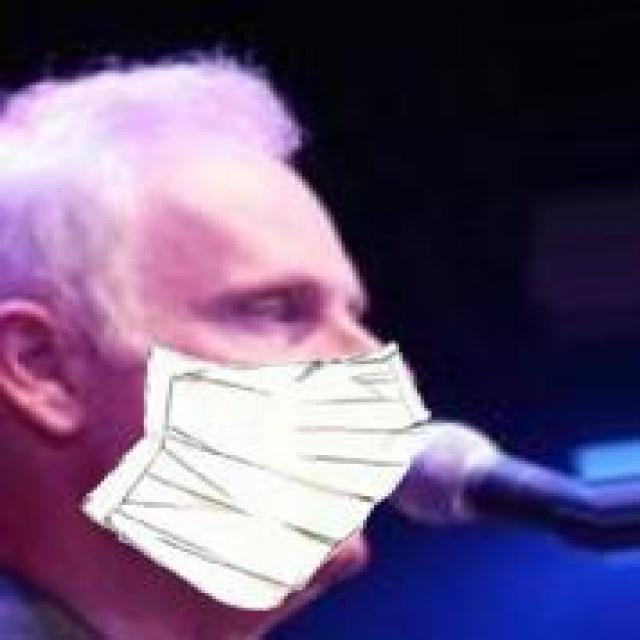mask: (0, 73, 435, 596)
